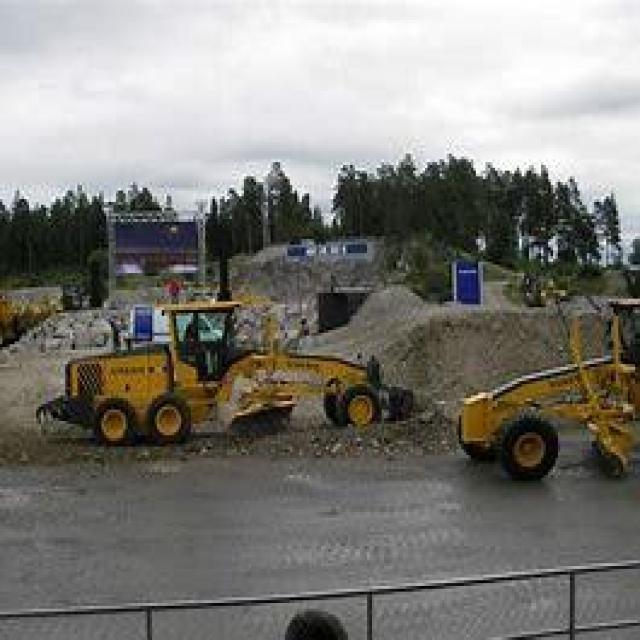buldozerpayloadergrader: (34, 290, 420, 452)
